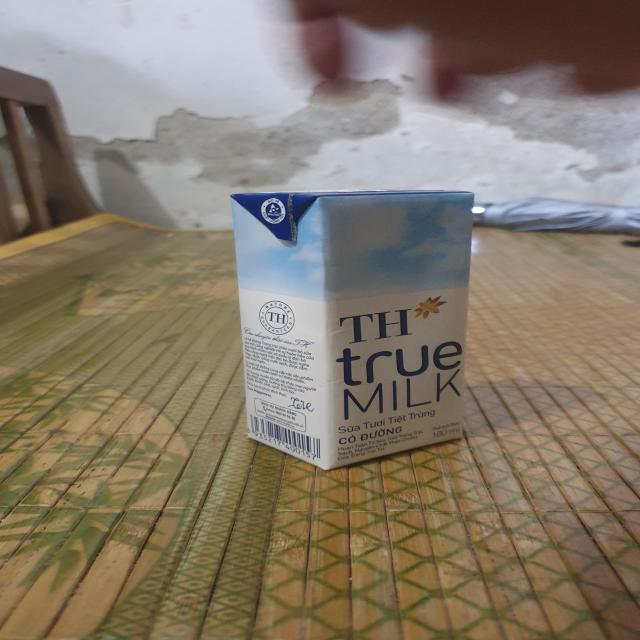TH: (225, 185, 482, 474)
